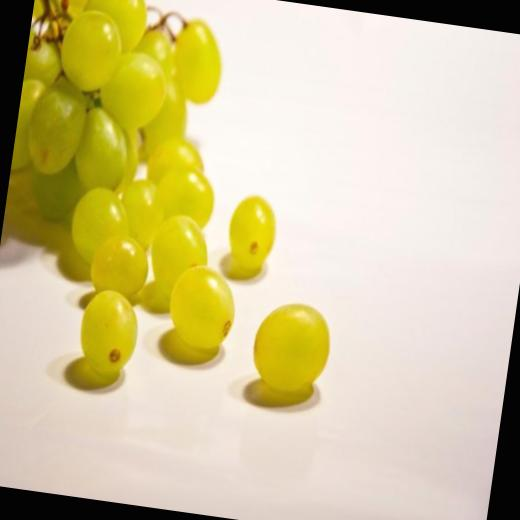Orange: (0, 0, 278, 387), (248, 296, 336, 398), (225, 190, 281, 270)
